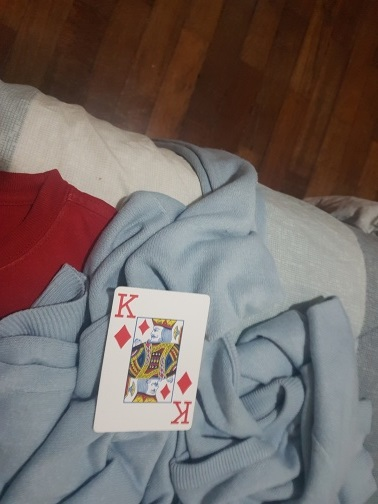king: (90, 285, 210, 430)
